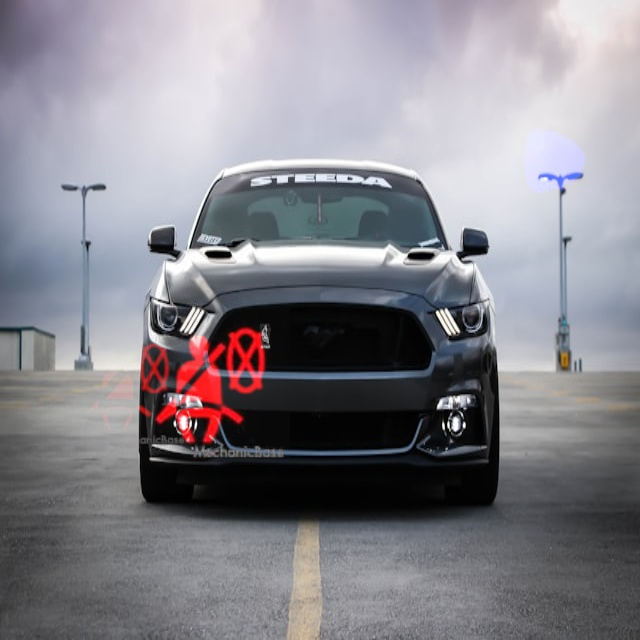symbol: (449, 82, 608, 241), (132, 307, 290, 465), (65, 326, 189, 450)
